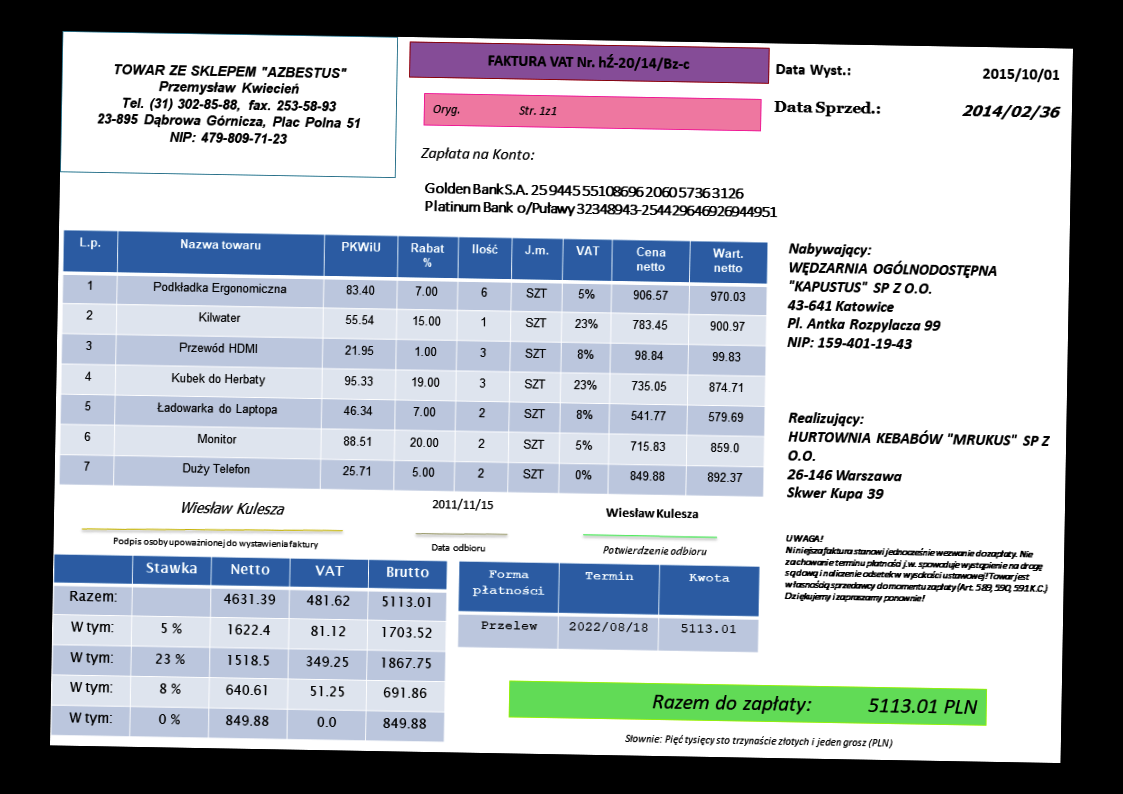Table: (58, 227, 767, 496), (51, 553, 447, 742), (456, 560, 761, 653)
TextBox: (785, 408, 1052, 505), (785, 241, 1002, 355), (94, 61, 365, 150), (782, 531, 1052, 607), (423, 179, 781, 221), (649, 689, 980, 718), (623, 731, 894, 751), (487, 49, 692, 74), (111, 533, 320, 551), (418, 143, 537, 165), (773, 98, 884, 120), (178, 497, 287, 519), (961, 102, 1062, 124), (430, 101, 559, 118), (603, 503, 701, 522), (601, 543, 709, 559), (775, 61, 853, 80), (981, 65, 1061, 83), (429, 496, 495, 514), (429, 541, 486, 554)
